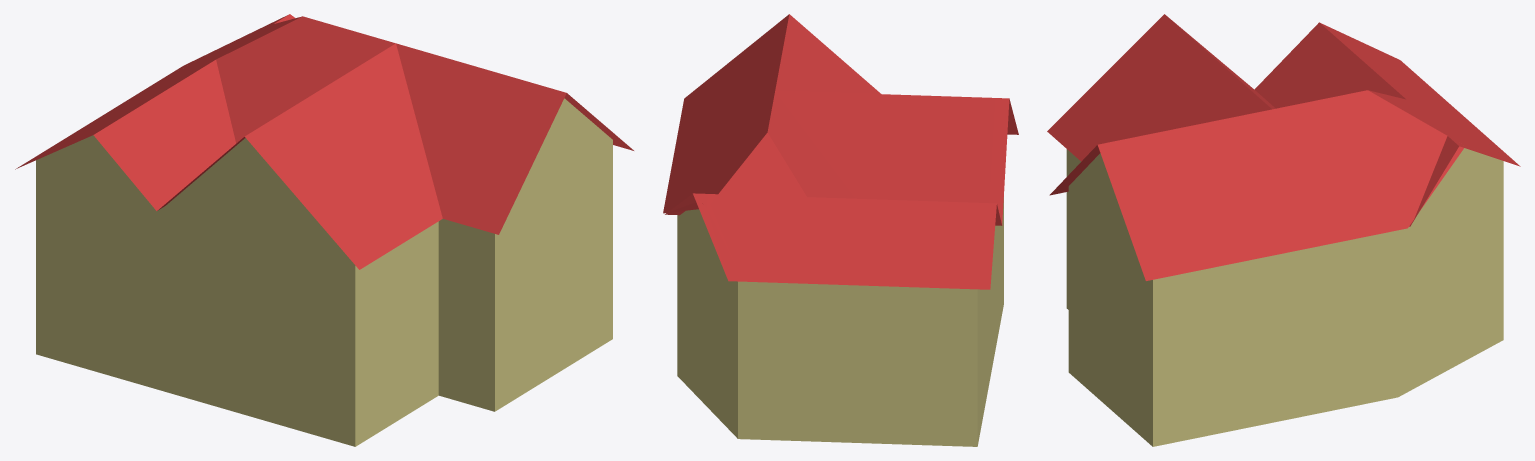
The picture shows the model from 3 angles, left to right: view 1: azimuth 30°, elevation 25°; view 2: azimuth 150°, elevation 25°; view 3: azimuth 270°, elevation 25°; orthographic projection. The views are drawn at different scales.
Size of the model in its own units: 26.59 by 24.08 by 15.01.
